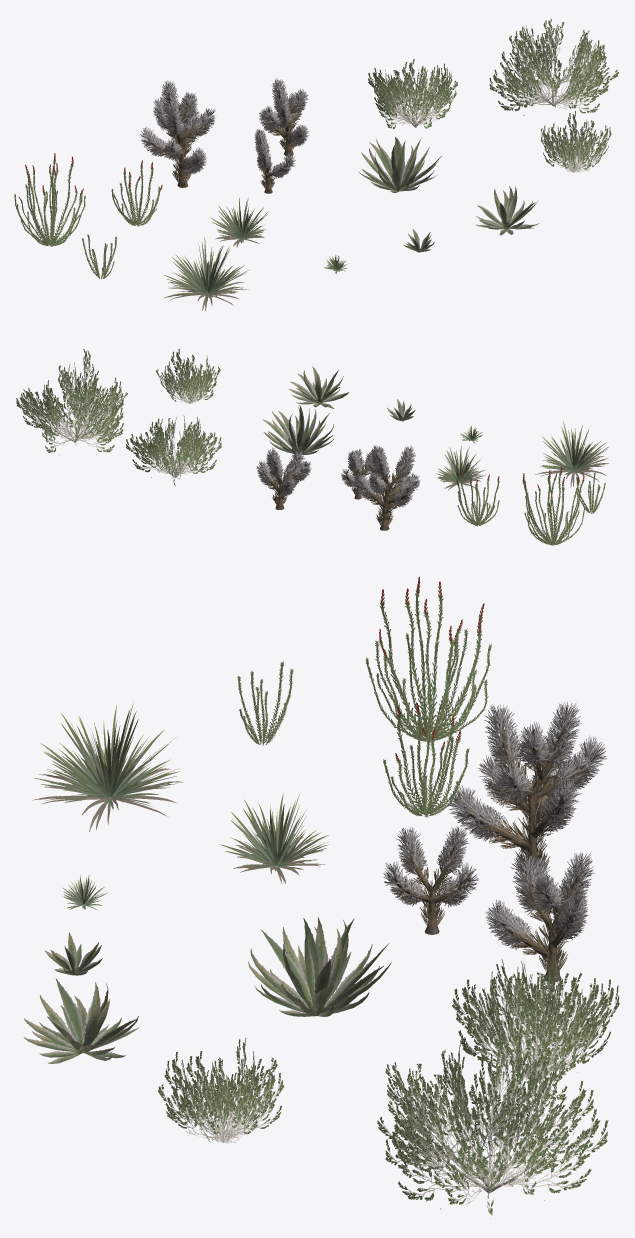
3 views of the same model, one above another, from view 1: azimuth 30°, elevation 25°; view 2: azimuth 150°, elevation 25°; view 3: azimuth 270°, elevation 25° (orthographic). The views are drawn at different scales.
Visible parts, largest first — view 1: creosote branch 02_7, cholla 01_9, agave_2, yacca leaf 01_3, ocotillo branch 02_6, cholla 02_8, ocotillo branch 01_5, bark_1, yacca leaf 02_4; view 2: creosote branch 02_7, cholla 01_9, agave_2, yacca leaf 01_3, ocotillo branch 02_6, cholla 02_8, ocotillo branch 01_5, bark_1, yacca leaf 02_4, bark 02_0; view 3: creosote branch 02_7, cholla 01_9, agave_2, yacca leaf 01_3, cholla 02_8, ocotillo branch 02_6, ocotillo branch 01_5, bark_1, yacca leaf 02_4, bark 02_0.
Part boxes in pixels (x1,y1,x2,y2): creosote branch 02_7: [368, 18, 618, 172]; cholla 01_9: [139, 78, 309, 178]; agave_2: [358, 137, 539, 252]; yacca leaf 01_3: [163, 197, 347, 301]; ocotillo branch 02_6: [19, 153, 162, 245]; cholla 02_8: [149, 96, 304, 189]; ocotillo branch 01_5: [14, 183, 159, 279]; bark_1: [148, 91, 301, 193]; yacca leaf 02_4: [164, 224, 264, 310]; creosote branch 02_7: [16, 349, 221, 485]; cholla 01_9: [256, 445, 419, 507]; agave_2: [262, 366, 415, 454]; yacca leaf 01_3: [436, 421, 609, 486]; ocotillo branch 02_6: [456, 466, 584, 544]; cholla 02_8: [265, 457, 414, 527]; ocotillo branch 01_5: [457, 473, 605, 545]; bark_1: [263, 456, 412, 530]; yacca leaf 02_4: [437, 450, 608, 490]; bark 02_0: [46, 390, 189, 477]; creosote branch 02_7: [157, 958, 619, 1218]; cholla 01_9: [383, 701, 607, 950]; agave_2: [23, 917, 391, 1063]; yacca leaf 01_3: [34, 703, 328, 909]; cholla 02_8: [390, 740, 590, 973]; ocotillo branch 02_6: [379, 576, 484, 814]; ocotillo branch 01_5: [237, 628, 491, 817]; bark_1: [393, 721, 591, 981]; yacca leaf 02_4: [33, 750, 325, 884]; bark 02_0: [424, 1028, 554, 1193].
Bounding box in the file's own units: 7.53 × 1.28 × 3.65.
Materials: 10 (10 with a texture image).
